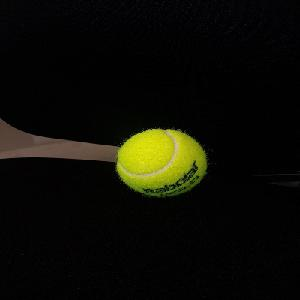Ball: (116, 128, 207, 197)
